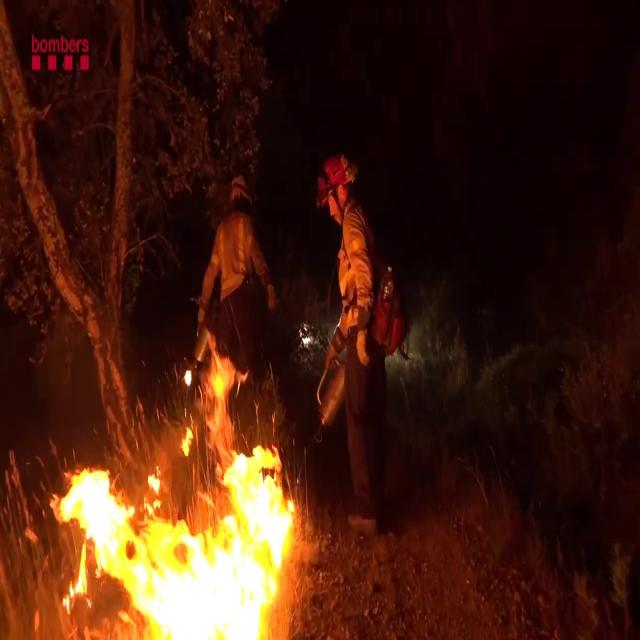Fire: (57, 387, 299, 638)
